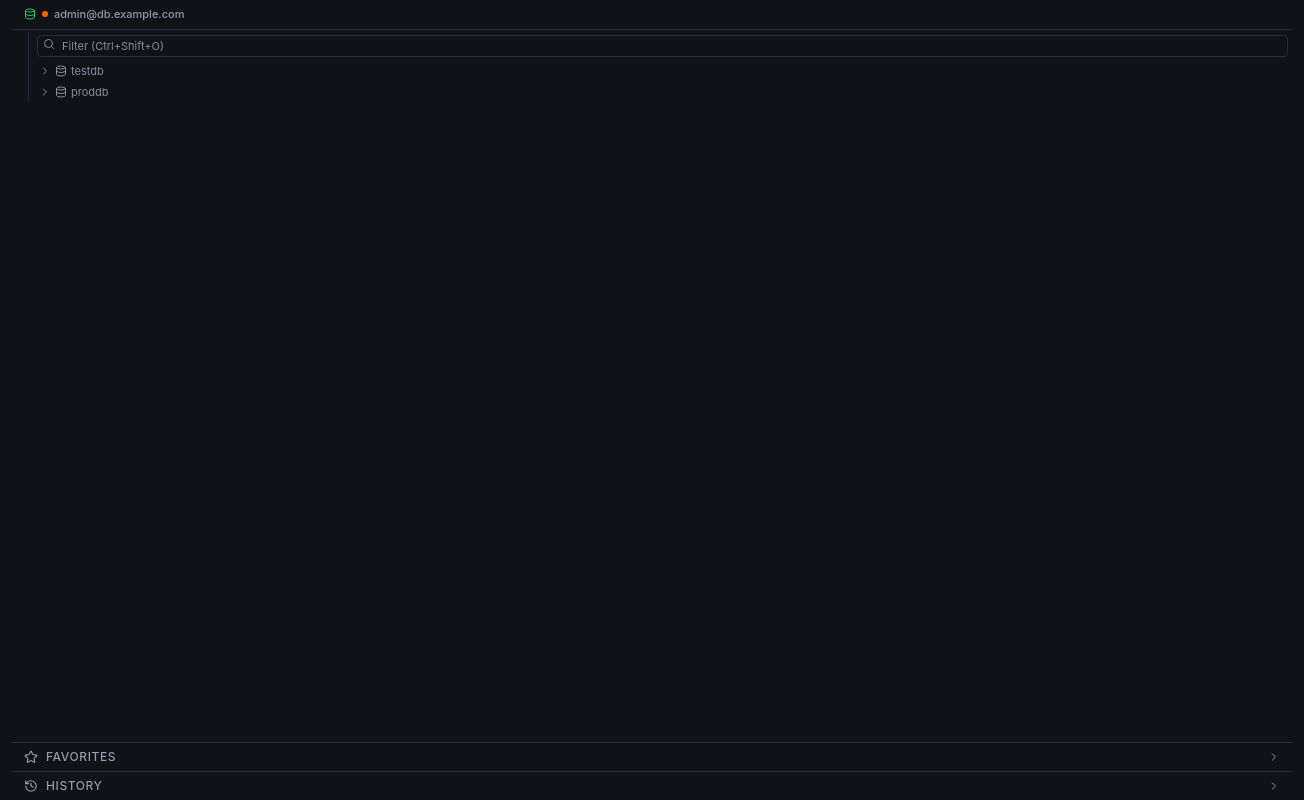
Scenario: Sidebar (browser) › with active connection › expands Tables folder to show table list
Check: the text "testdb" is shown, box [71,63,104,80]
What coordinates should you click on to do the following:
click the list item "testdb"
I would click on:
 (87, 71)
Its box is [33,61,1292,82].
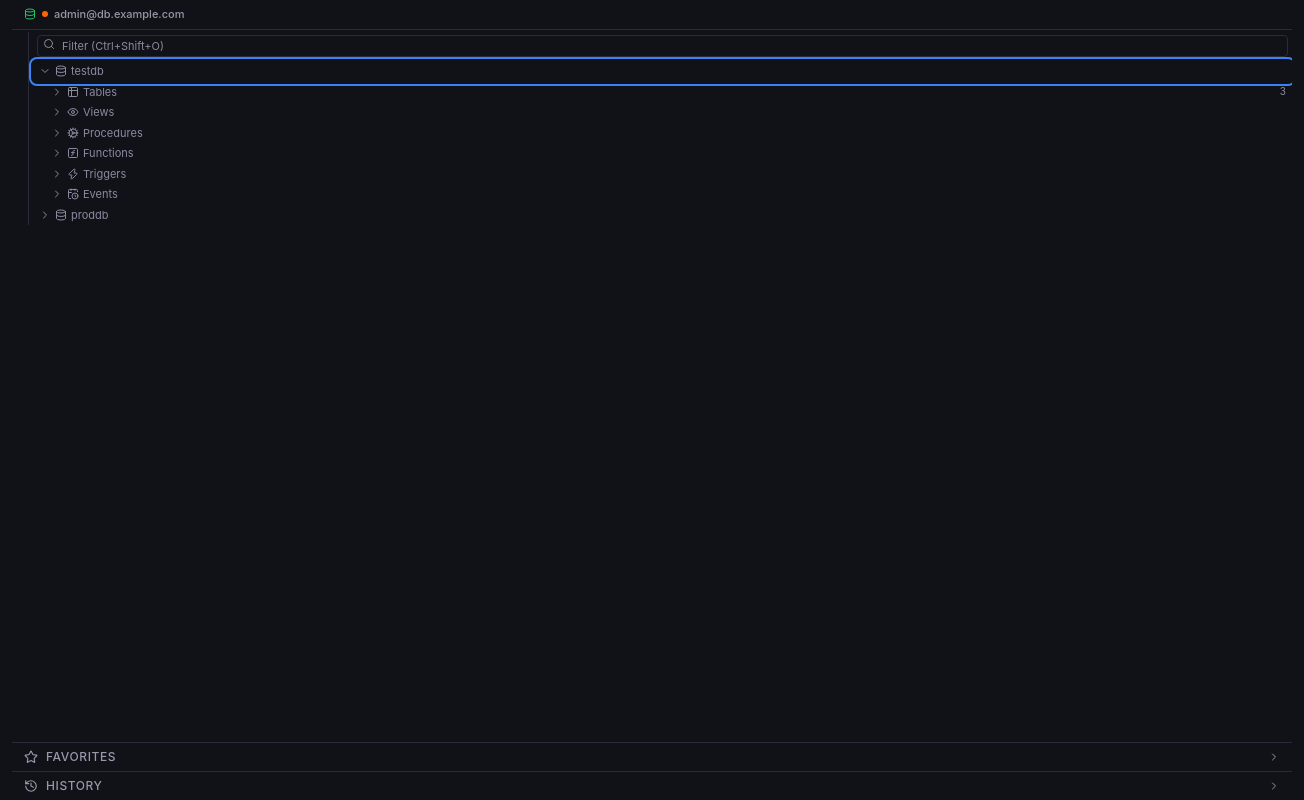
Check: the text "Tables" is shown
What coordinates should you click on to do the following:
click the text "Tables"
I would click on:
 (100, 92)
Its box is [83,84,117,100].
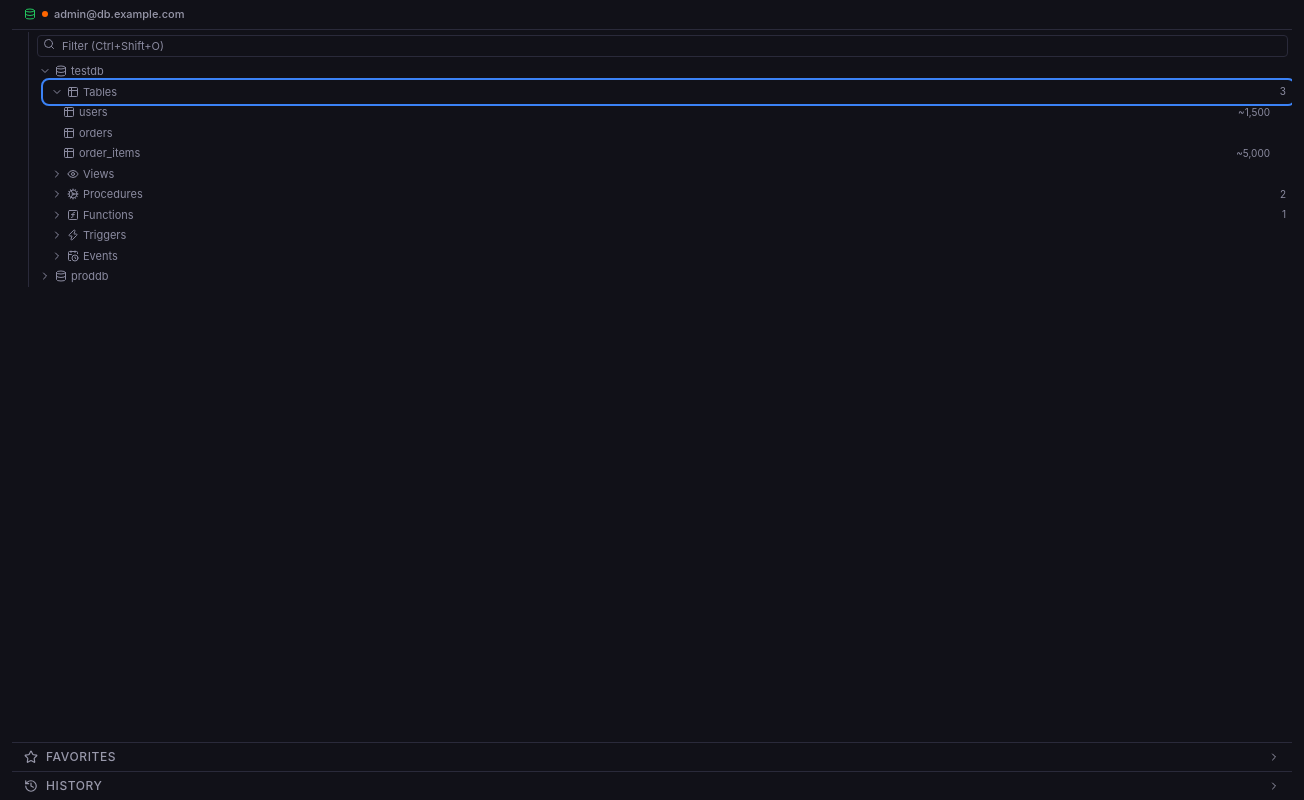
Check: the text "users" is shown, box [79,104,108,120]
Check: the text "orders" is shown, box [79,124,113,141]
Check: the text "order_items" is shown, box [79,145,140,162]
